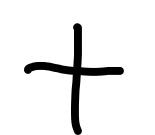plus: (25, 24, 124, 135)
